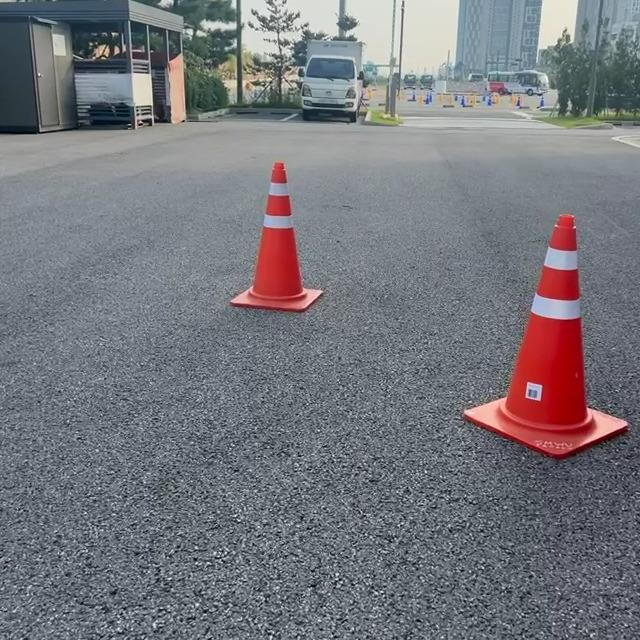fallen_object: (412, 159, 603, 494), (207, 163, 339, 303)
